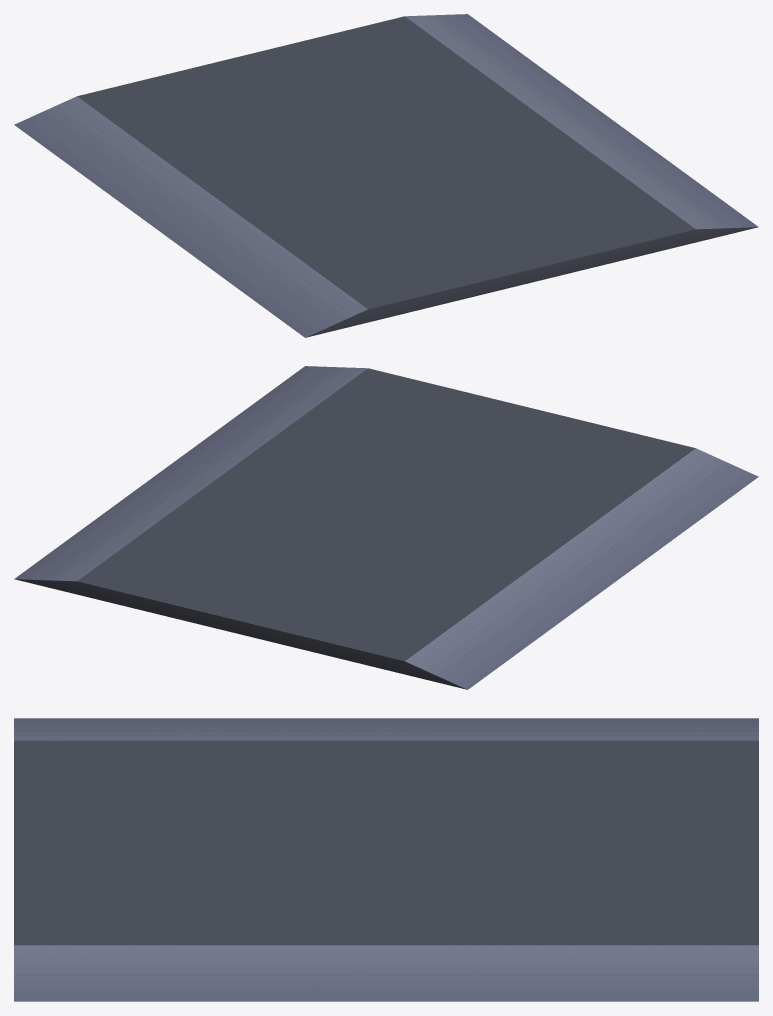
The model's file is driveway-long.glb.
3 renders of one model, top to bottom at view 1: azimuth 30°, elevation 25°; view 2: azimuth 150°, elevation 25°; view 3: azimuth 270°, elevation 25°, orthographic. The views are drawn at different scales.
Visible parts, largest first — view 1: driveway-long; view 2: driveway-long; view 3: driveway-long.
Part boxes in pixels (x1=…): driveway-long: x1=14, y1=14, x2=758, y2=337; driveway-long: x1=14, y1=366, x2=758, y2=689; driveway-long: x1=14, y1=718, x2=758, y2=1001.
Size of the model in its own units: 0.36 by 0.01 by 0.4.
1 material, 1 textured.
